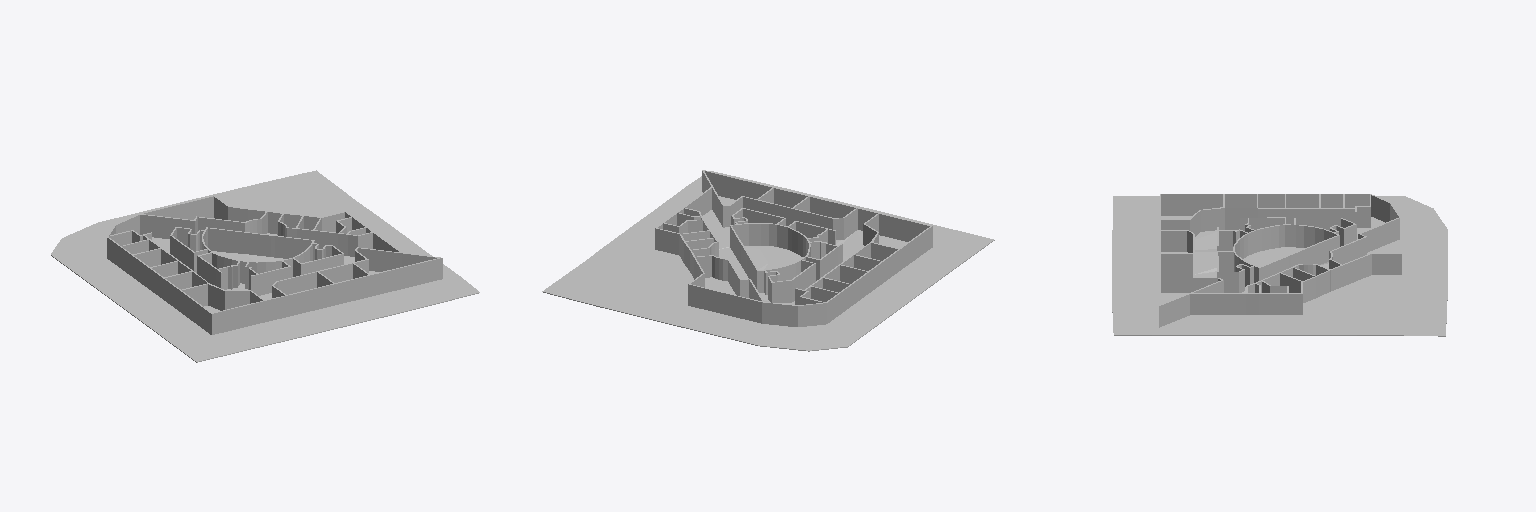
Rendered from swearingen3.obj.
The picture shows the model from 3 angles: view 1: azimuth 30°, elevation 25°; view 2: azimuth 150°, elevation 25°; view 3: azimuth 270°, elevation 25°; orthographic projection.
Visible parts, largest first — view 1: Walls, Background, Floors; view 2: Walls, Background, Floors; view 3: Walls, Background, Floors.
Part boxes in pixels (x1,y1,x2,y2): Walls: (107, 195, 442, 334); Background: (51, 170, 479, 362); Floors: (152, 218, 378, 312); Walls: (655, 170, 932, 326); Background: (542, 171, 994, 351); Floors: (702, 196, 907, 304); Walls: (1159, 194, 1401, 327); Background: (1112, 196, 1447, 336); Floors: (1161, 216, 1399, 303).
Size of the model in its own units: 20.3 by 1.55 by 20.61.